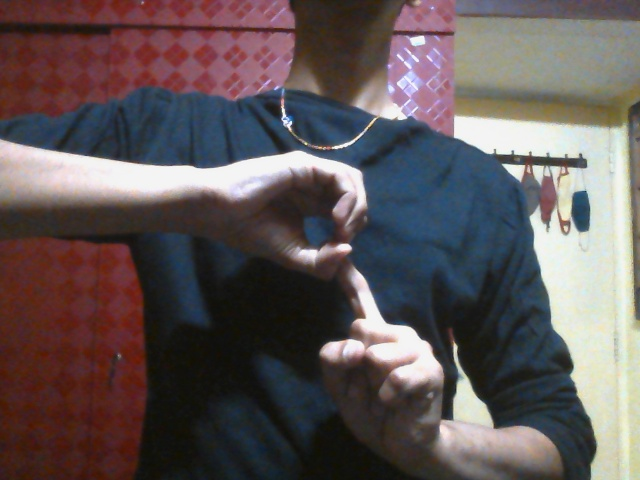Q: (226, 149, 445, 437)
